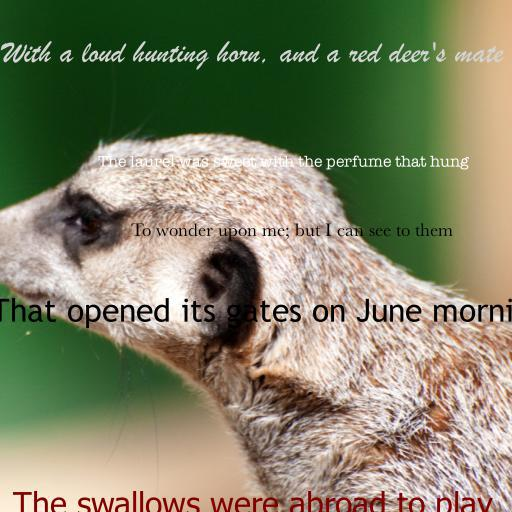American Typewriter: (97, 155, 469, 170)
Baskerville: (131, 223, 453, 241)
Brush Script MT: (1, 41, 503, 70)
Tahoma: (13, 490, 493, 512)
Trebuchet MS: (0, 298, 512, 329)
